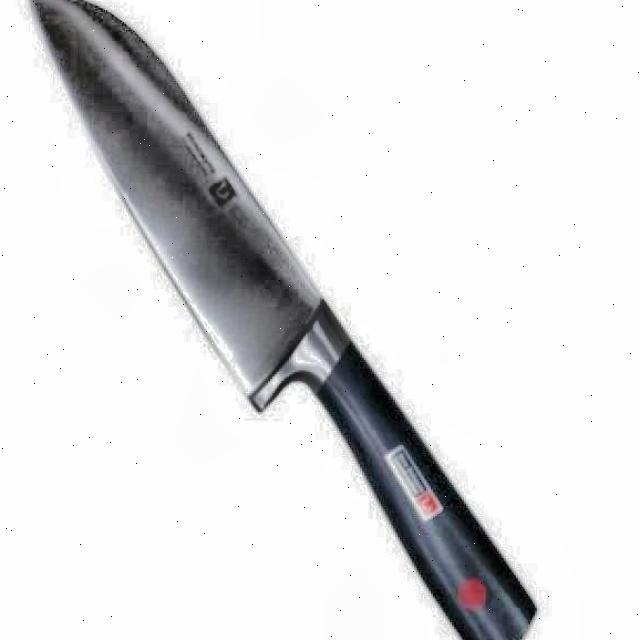knife: (23, 0, 543, 640)
